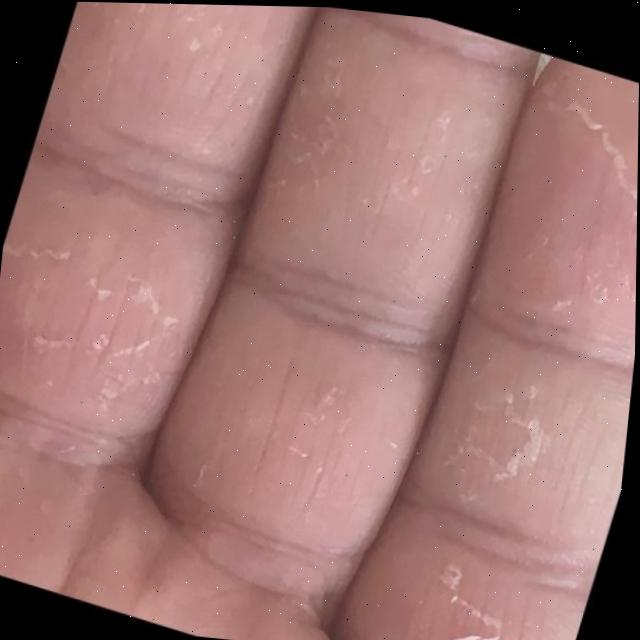Eczema: (49, 1, 570, 603)
